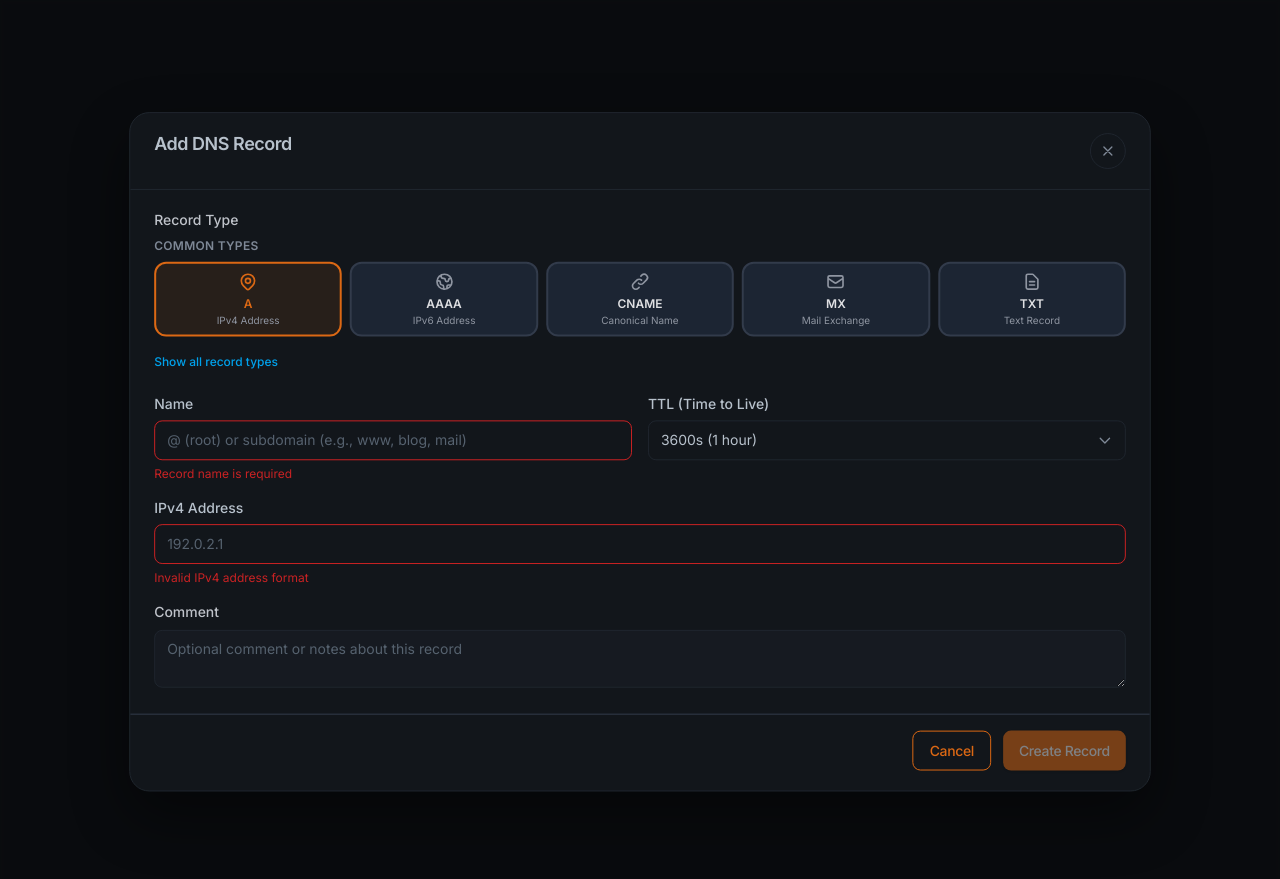
Scenario: ManageDNSRecordModal › keeps RFC3597 disabled in all-types list
Step 1. Click the button "Show all record types" → (216, 362), box [154, 354, 278, 370]
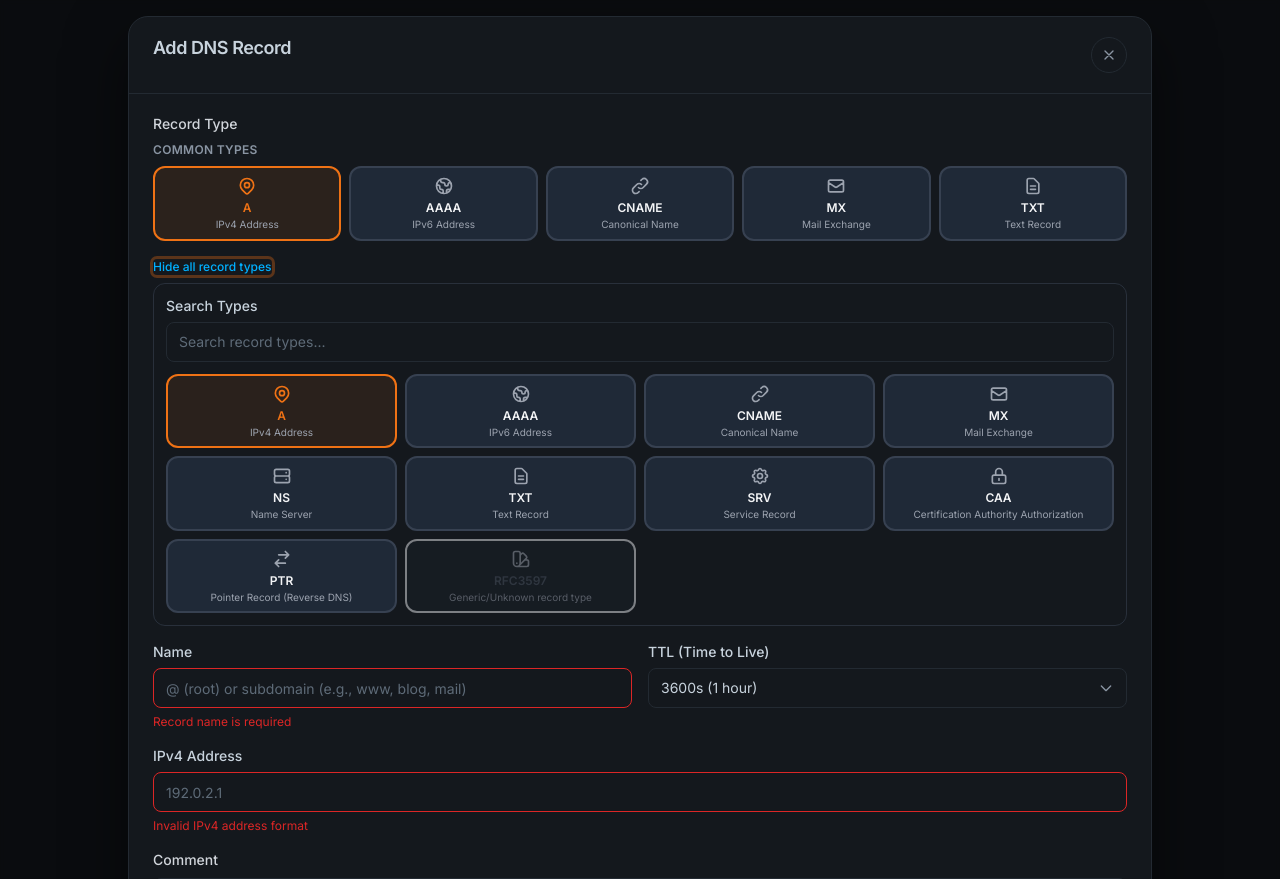
Expected: the button with test id "record-type-RFC3597" is disabled, [405, 538, 636, 613]
